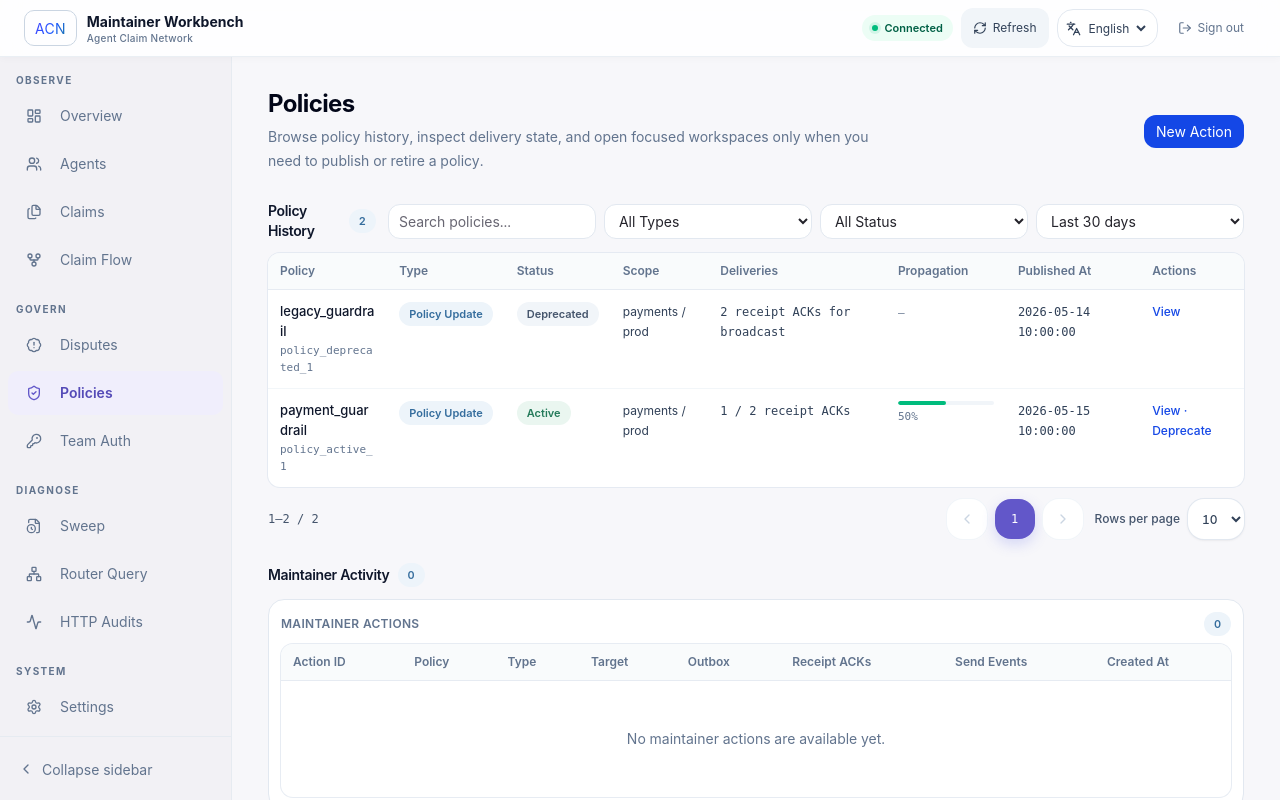
Scenario: PoliciesPage › opens the action drawer and navigates to three action workspaces
The image size is (1280, 800).
Click the button "New Action": (1194, 131) [1144,114,1244,148]
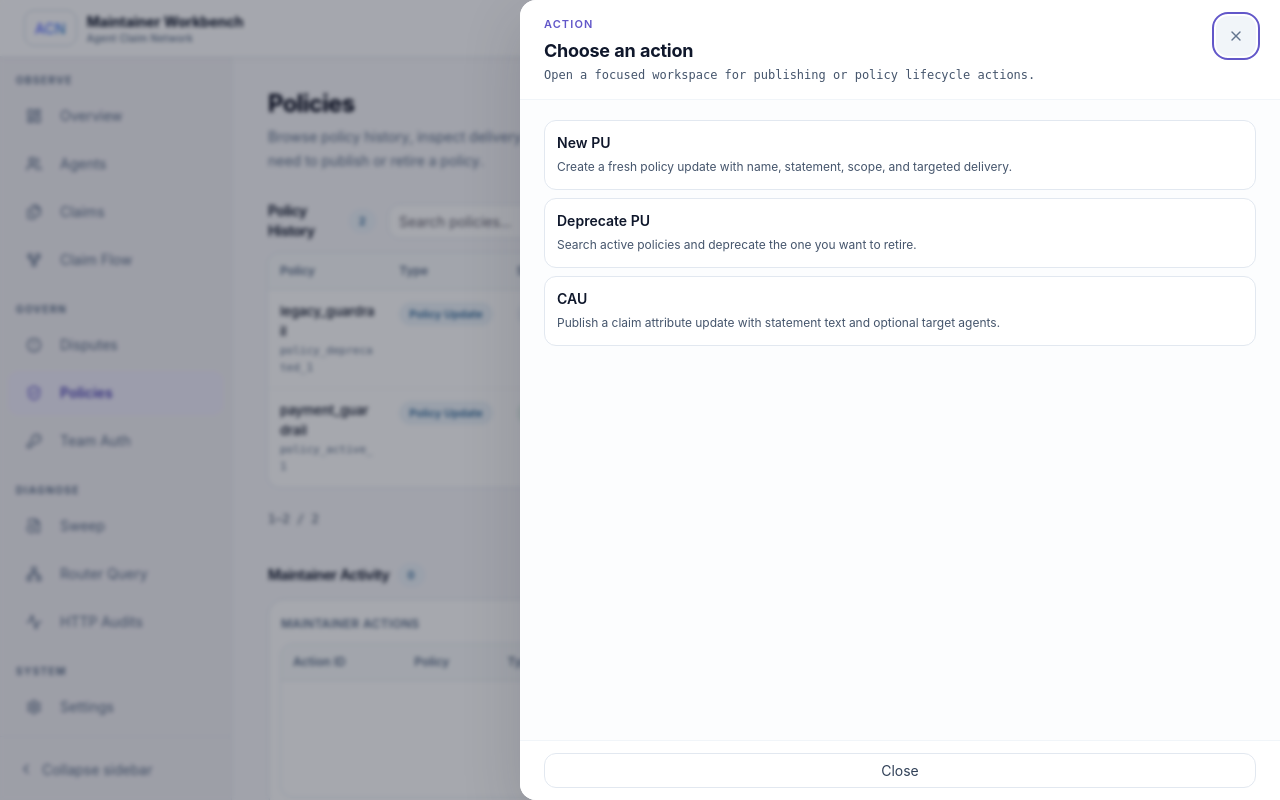
Expected: the heading "Choose an action" is shown, [544,40,693,60]
Click the button "New PU": (584, 142) [544,120,1256,190]
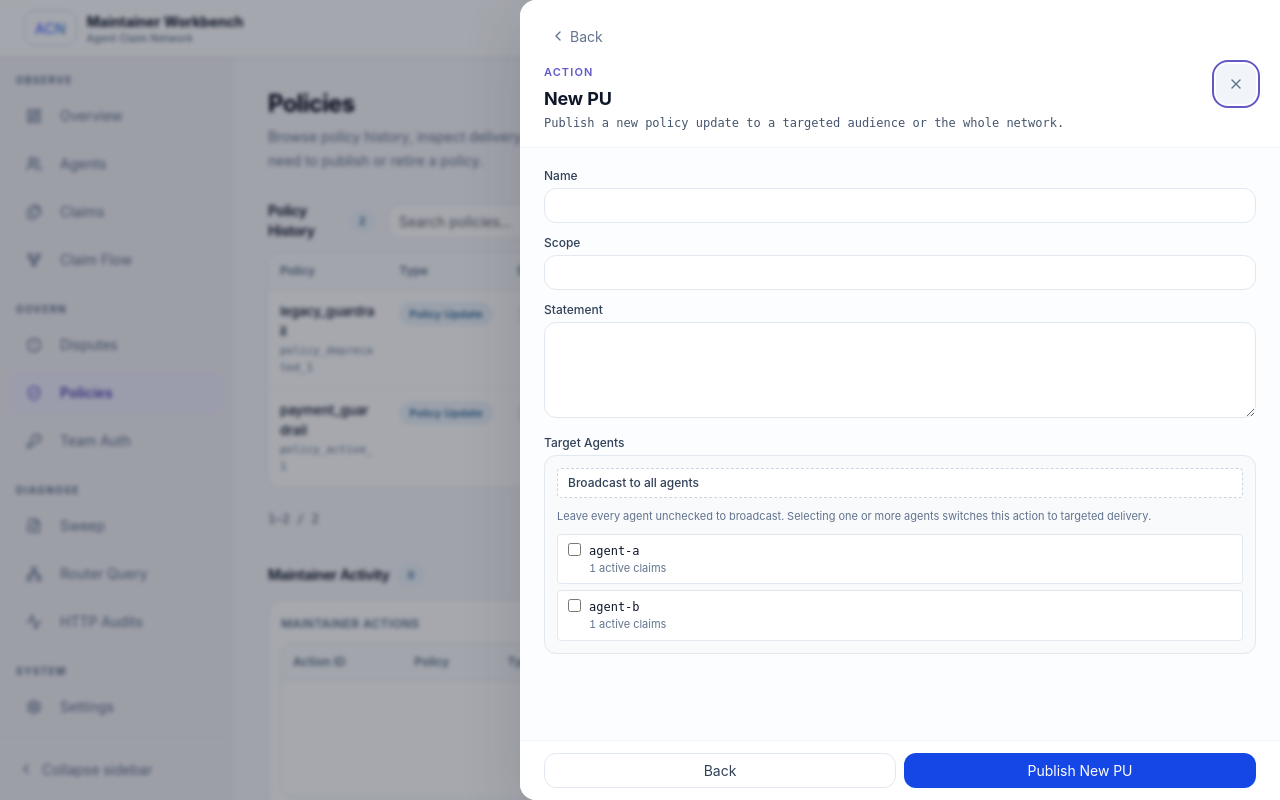
Expected: the field labelled "Name" is shown, [544,188,1256,222]
Expected: the text box labelled "Statement" is shown, [544,322,1256,418]
Expected: the text "Broadcast to all agents" is shown, [557,468,1243,498]
Click the 1st button "Back": (576, 36) [544,16,609,56]
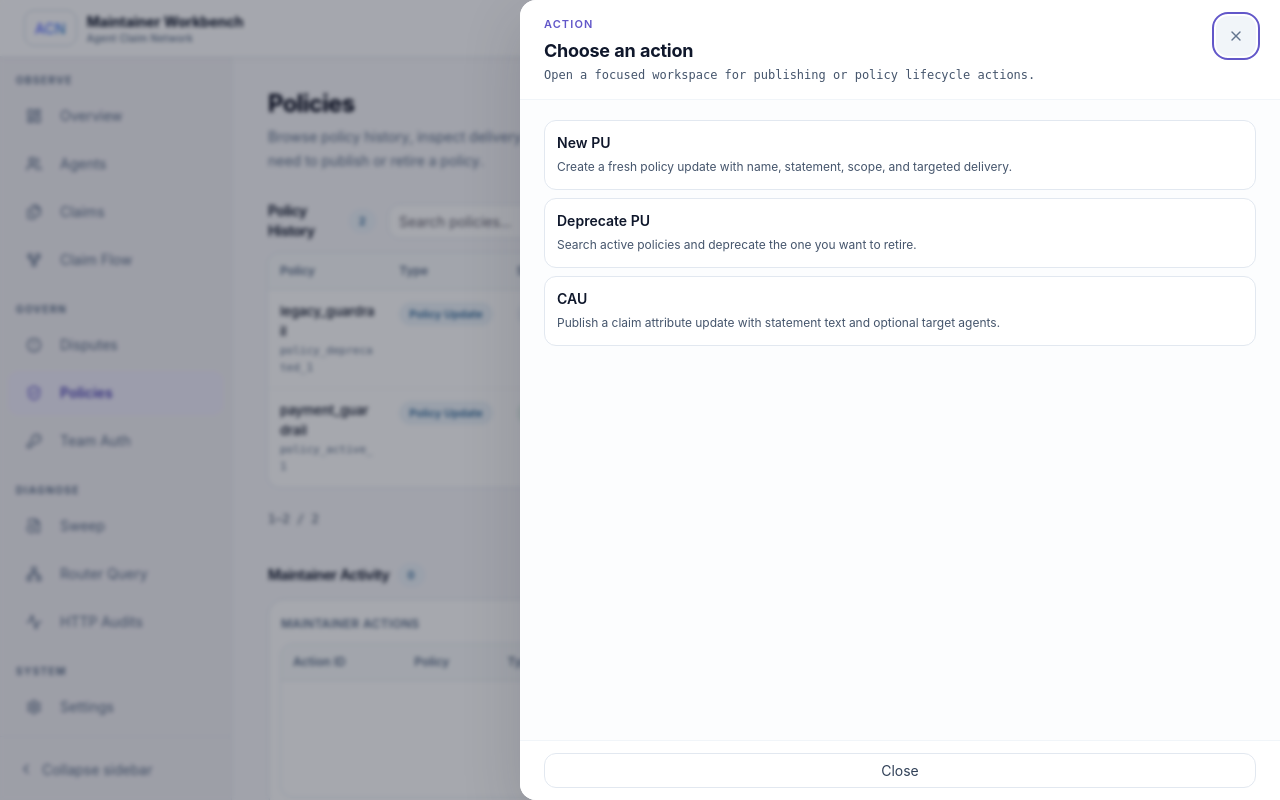
Click the button "Deprecate PU": (604, 220) [544,198,1256,268]
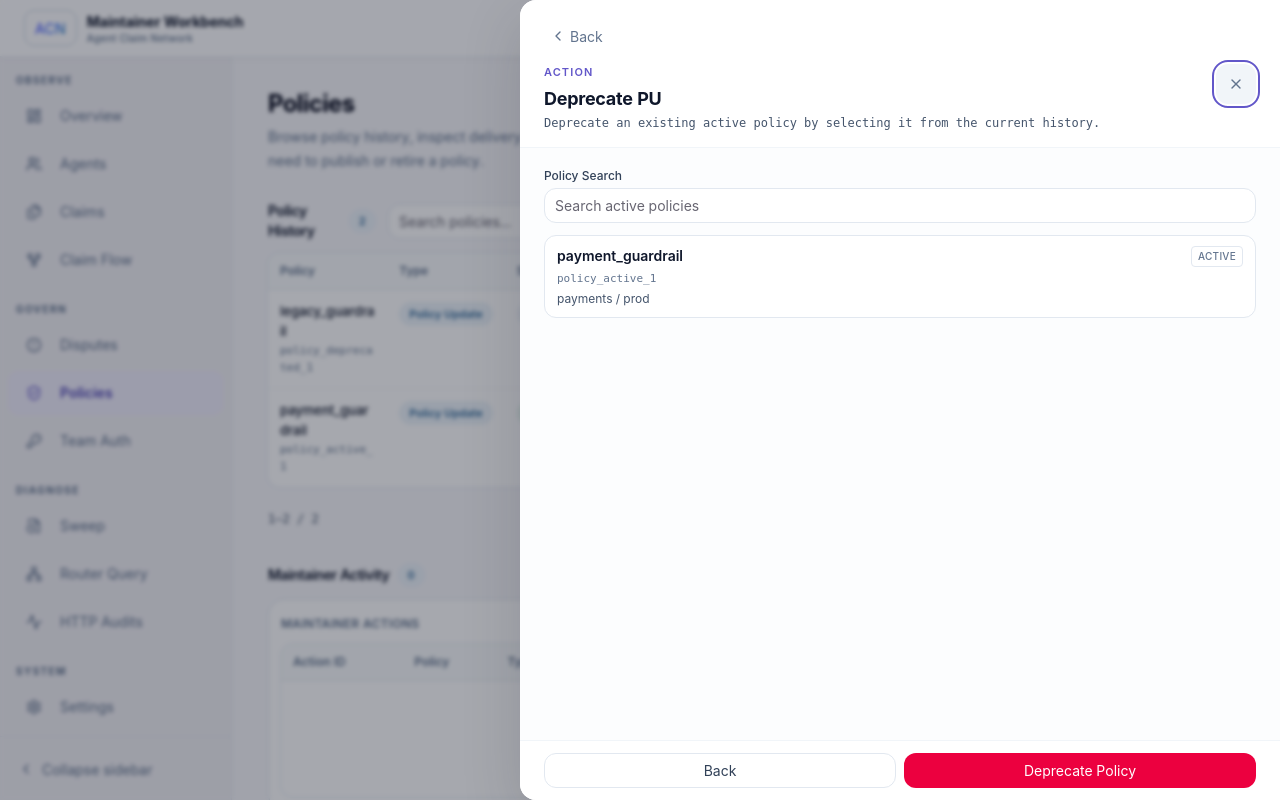
Expected: the field with placeholder "Search active policies" is shown, [544,188,1256,222]
Expected: the text "payment_guardrail" is shown, [557,246,683,266]
Click the 1st button "Back": (576, 36) [544,16,609,56]
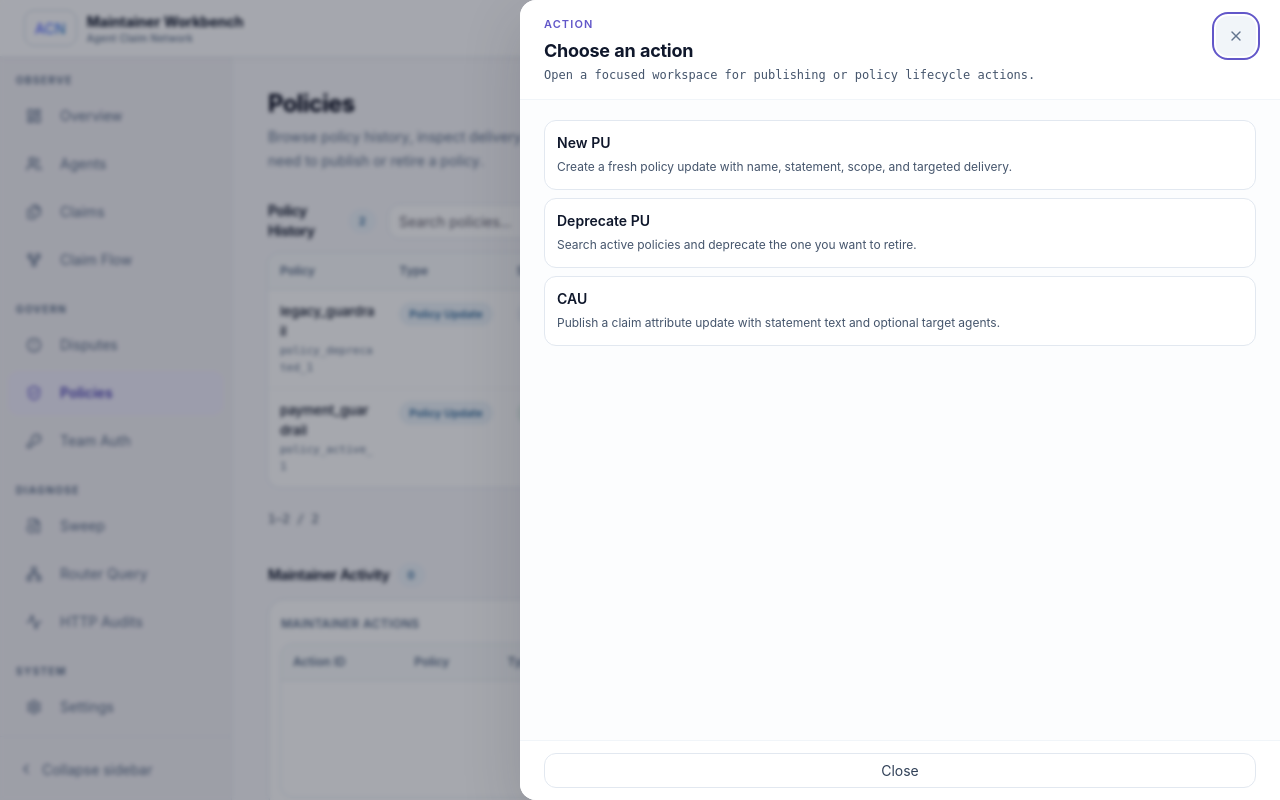
Click the button "CAU": (572, 298) [544,276,1256,346]
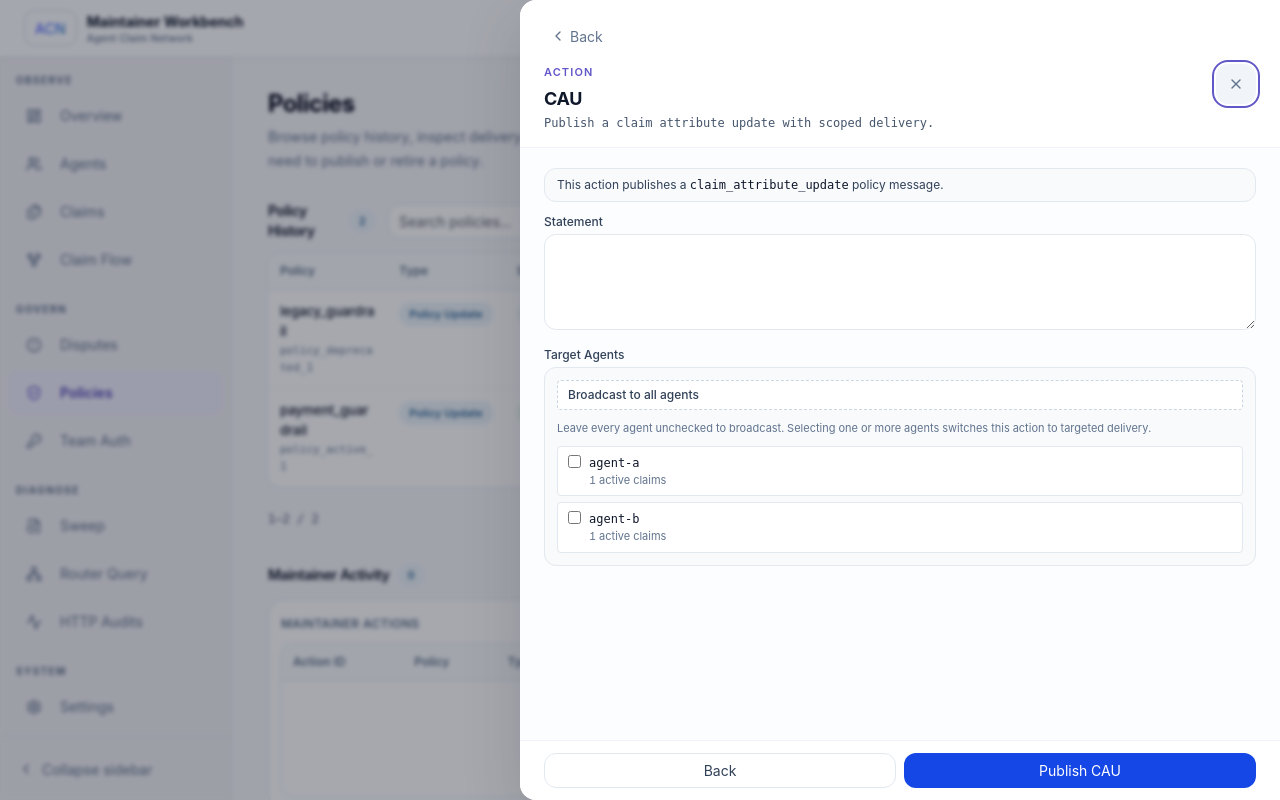
Expected: the text box labelled "Statement" is shown, [544,234,1256,330]
Expected: the text "Broadcast to all agents" is shown, [557,380,1243,410]
